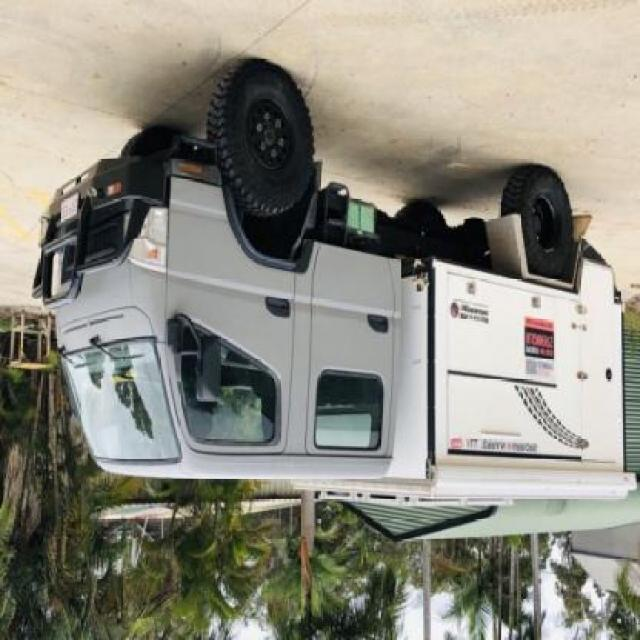truck: (34, 58, 637, 506)
